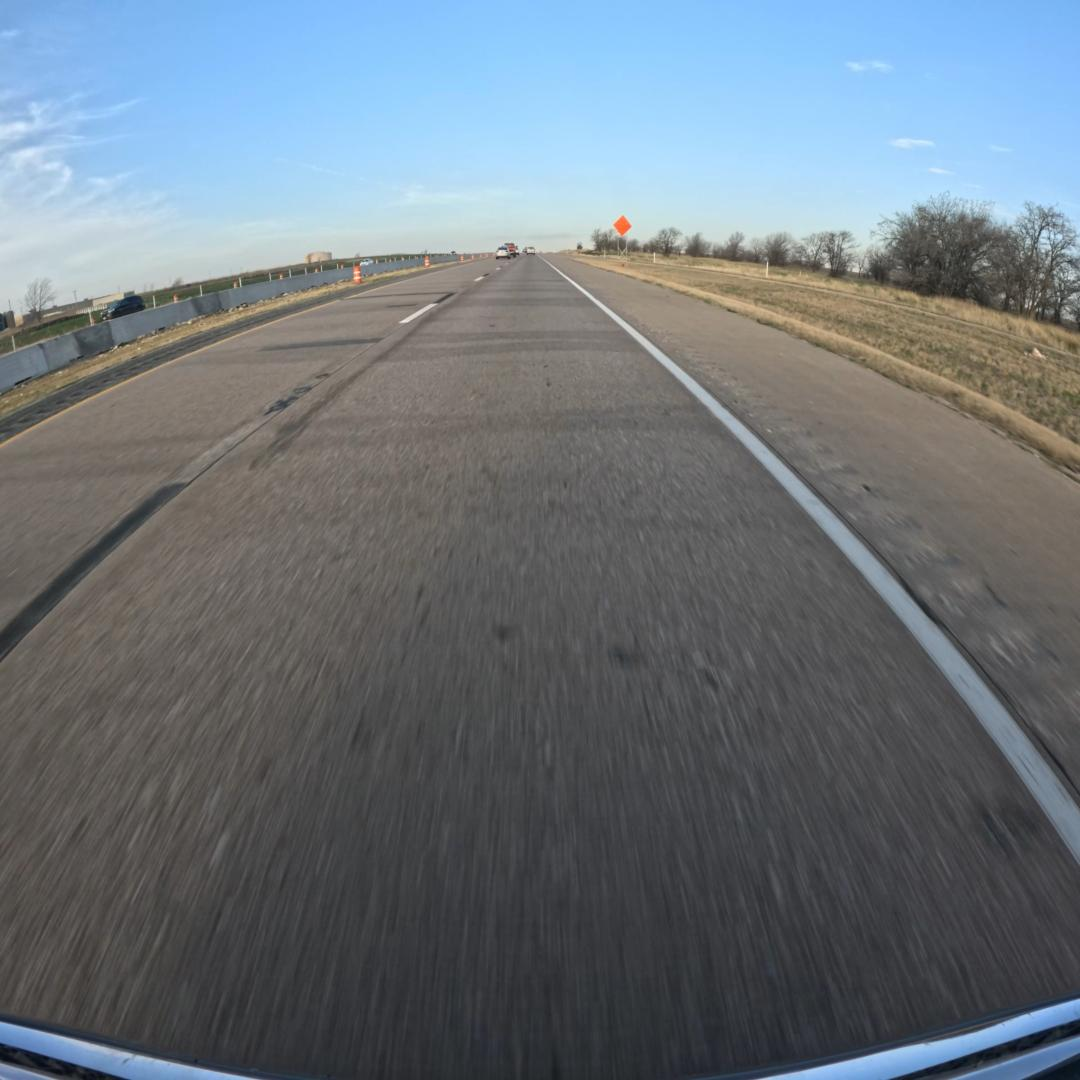lane0: (0, 259, 1080, 1080)
lane1: (0, 258, 500, 660)
